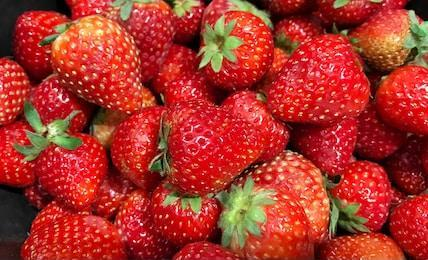Fresa: (156, 95, 268, 201), (47, 12, 157, 118), (265, 26, 374, 131), (226, 179, 318, 260), (31, 127, 114, 215), (195, 7, 275, 92), (328, 153, 393, 238)
